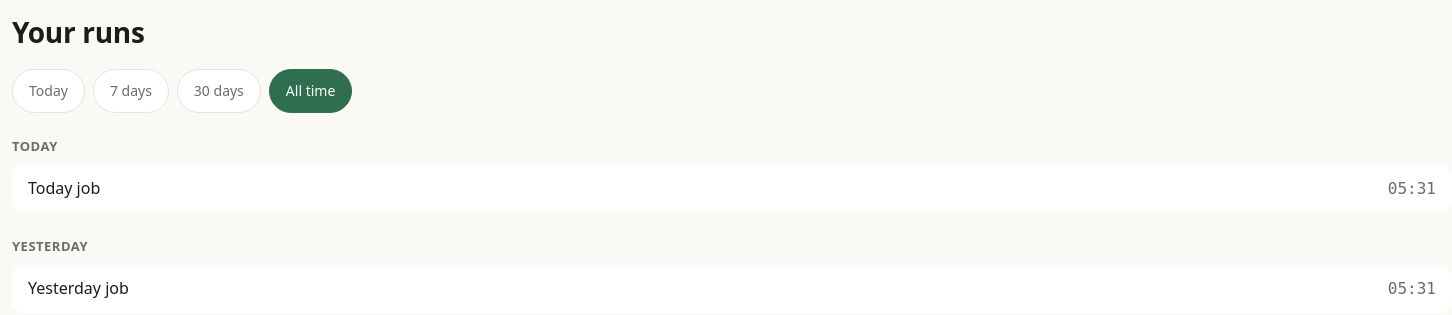
Scenario: History page › filters to today only
Expected: the text "Today job" is shown, [28,177,100,199]
Step 1. Click the button "Today" → click(48, 91), box [12,69,85,113]
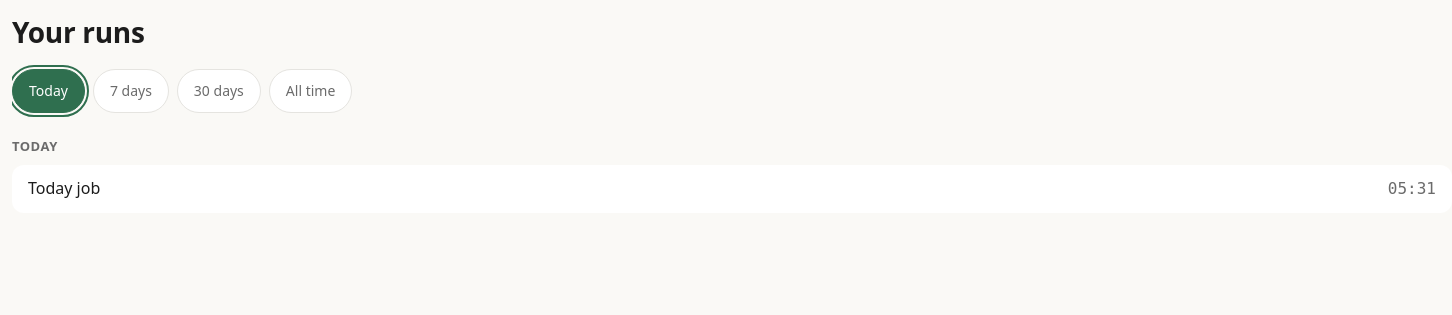
Expected: the text "Today job" is shown, [28,177,100,199]
Expected: the text "Yesterday job" is gone
